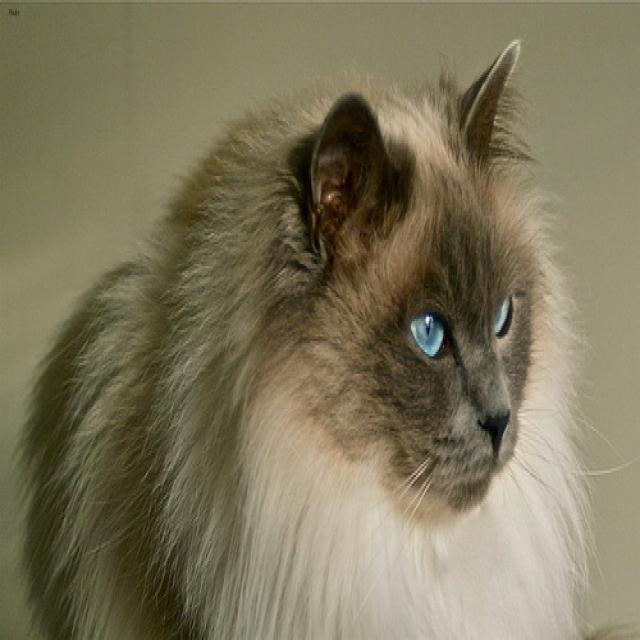Ragdoll: (287, 41, 562, 525)
